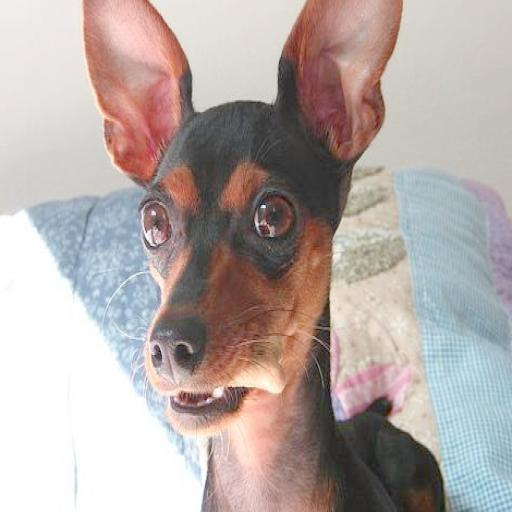dog_face: (74, 4, 396, 430)
